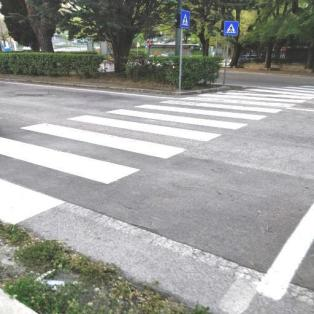Paso de Cebra: (14, 112, 232, 164)
